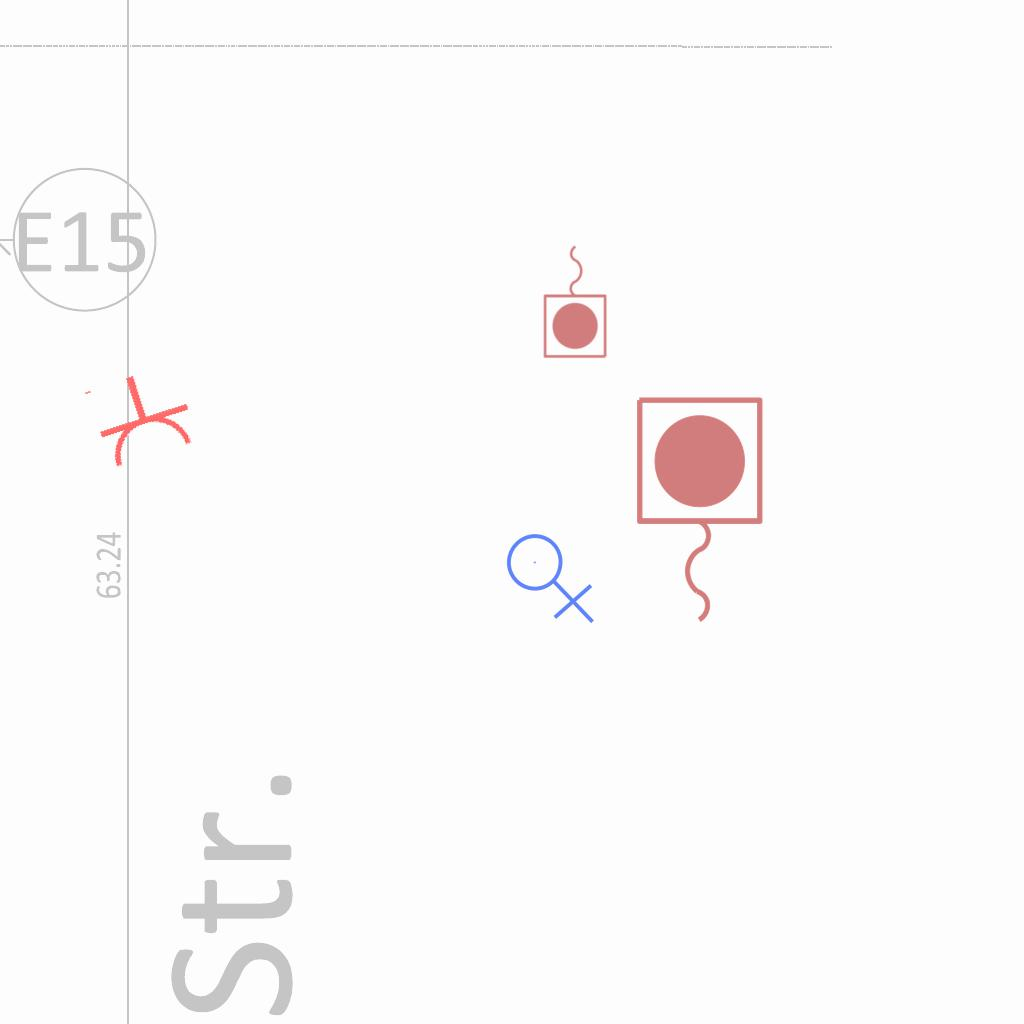Elektroanschluss_allgemein_230V_Geraeteanschlussdose_230V: (505, 525, 599, 624)
Schukosteckdose_einfach: (79, 360, 202, 474)
Zugtaster: (626, 389, 770, 633), (540, 240, 612, 362)
